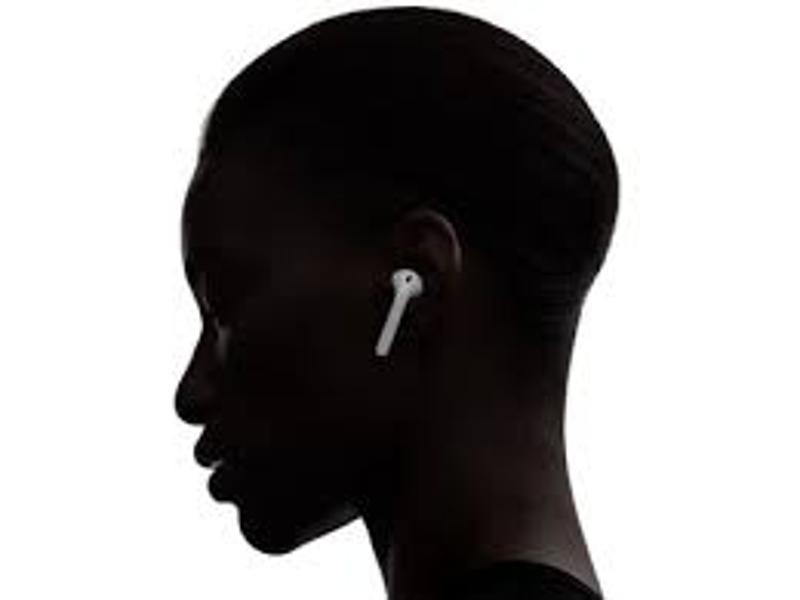headphone: (375, 268, 426, 356)
